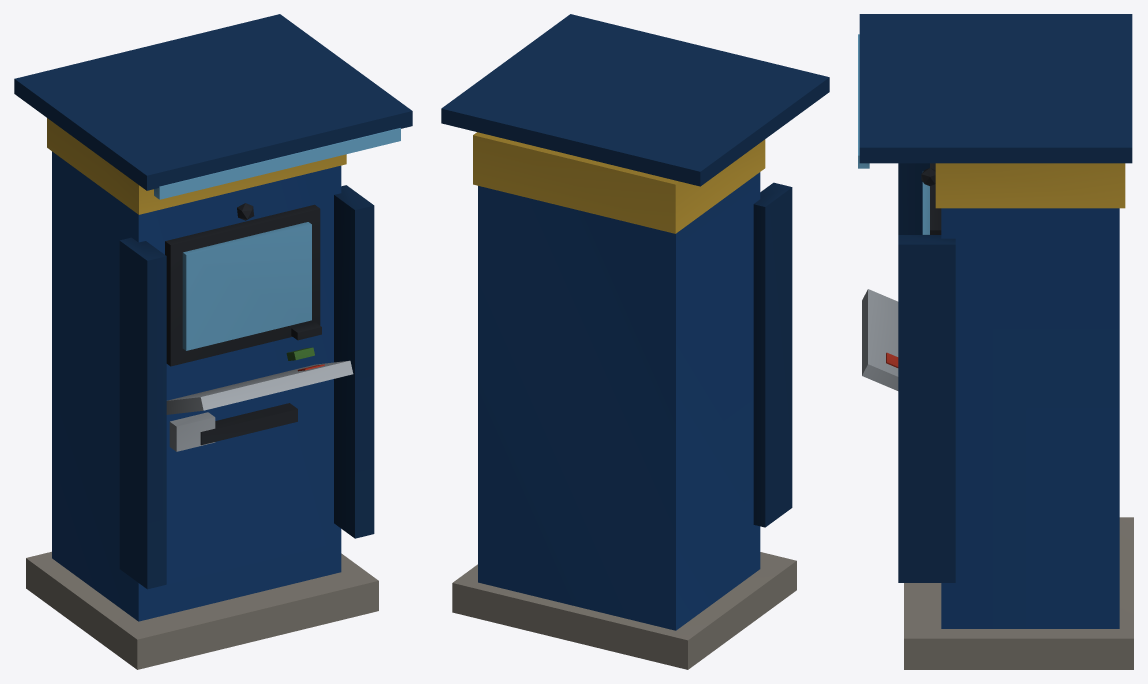
The model's file is cay-atm.glb.
The picture shows the model from 3 angles, left to right: view 1: azimuth 30°, elevation 25°; view 2: azimuth 150°, elevation 25°; view 3: azimuth 270°, elevation 25°; orthographic projection. The views are drawn at different scales.
Visible parts, largest first — view 1: cay-atm; view 2: cay-atm; view 3: cay-atm.
Boxes of the visible parts, x1=… form: cay-atm: x1=14, y1=14, x2=412, y2=669; cay-atm: x1=441, y1=14, x2=829, y2=669; cay-atm: x1=858, y1=14, x2=1133, y2=669.
Bounding box in the file's own units: 1.1 × 2.03 × 0.96.
